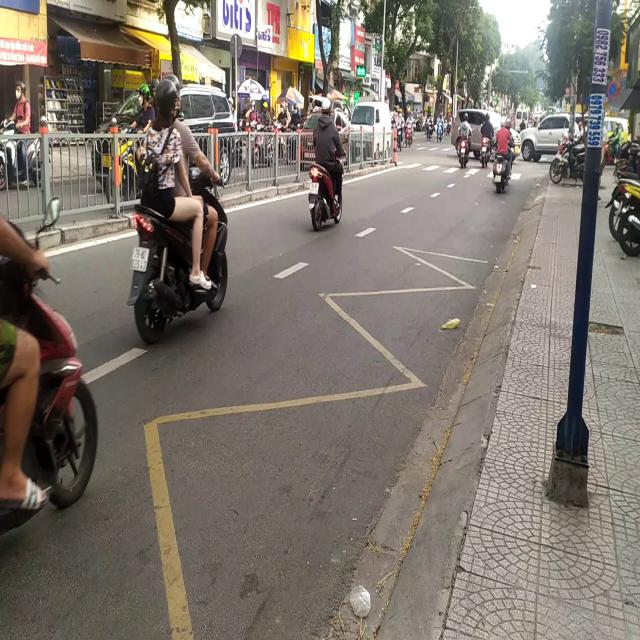bien_trang: (133, 248, 148, 272)
